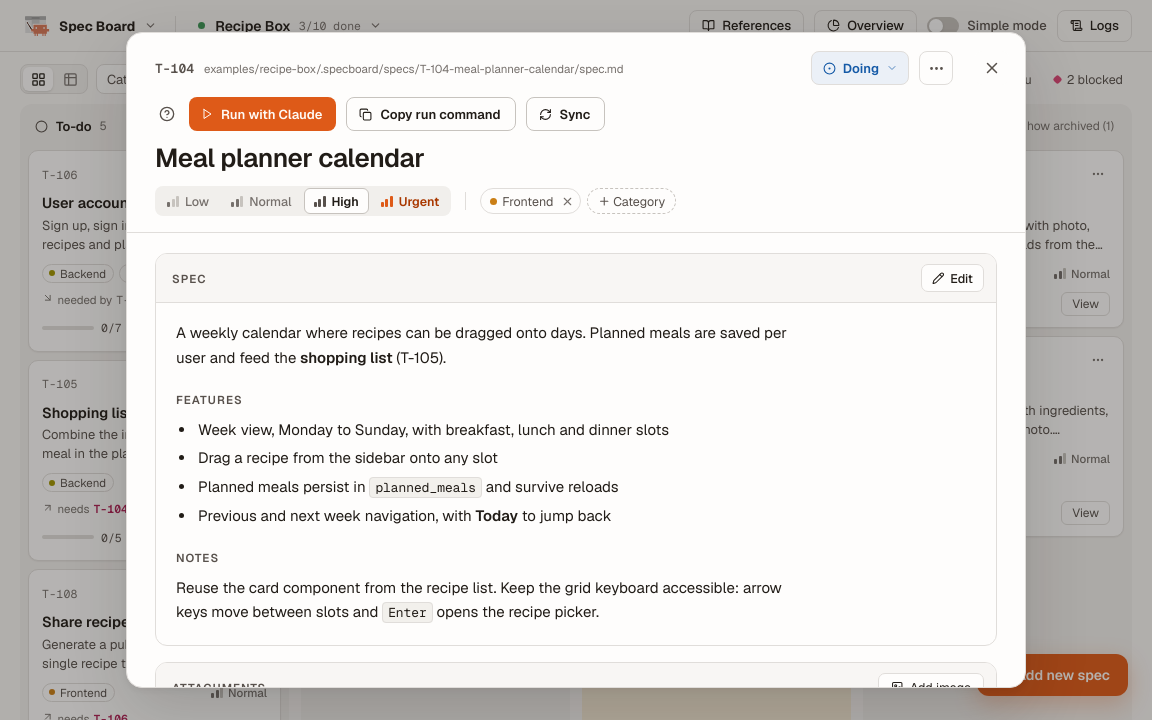
refusals › logged-out
Click the button "Run with Claude" at (263, 114), box [189,97,336,131]
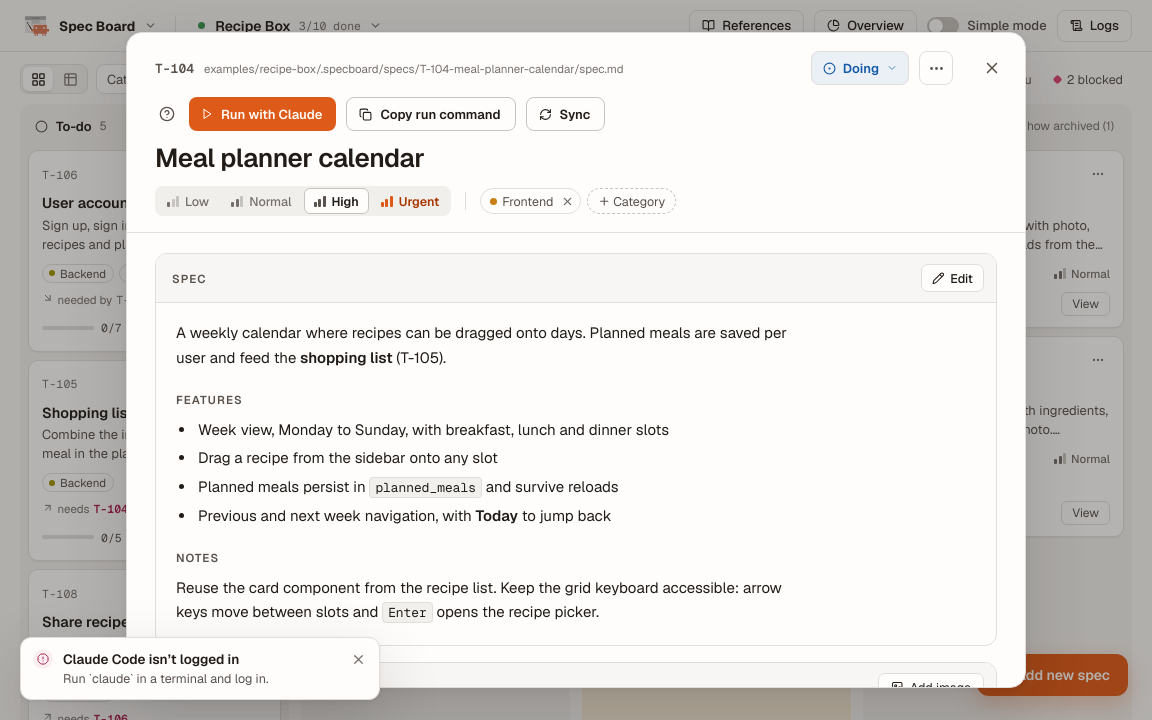
Check: the text "Run `claude` in a terminal and log in." is shown once, box [63,670,268,687]
Check: the text "Claude Code isn’t logged in" is shown, box [63,650,239,668]
